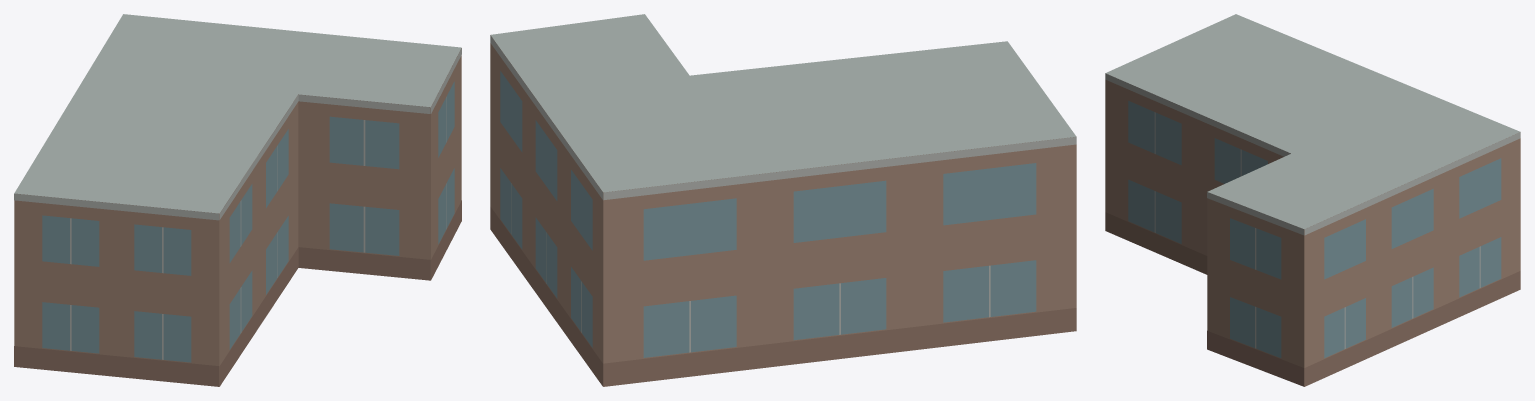
The model's file is survey-upis-32609498.glb.
3 views of the same model, side by side, from view 1: azimuth 30°, elevation 25°; view 2: azimuth 150°, elevation 25°; view 3: azimuth 270°, elevation 25° (orthographic). The views are drawn at different scales.
Parts seen in each view (by area): view 1: survey-upis-32609498.tmp; view 2: survey-upis-32609498.tmp; view 3: survey-upis-32609498.tmp.
Boxes of the visible parts, left/top/right/bottom form: survey-upis-32609498.tmp: left=14, top=14, right=461, bottom=386; survey-upis-32609498.tmp: left=490, top=14, right=1076, bottom=386; survey-upis-32609498.tmp: left=1105, top=14, right=1520, bottom=386.
Bounding box in the file's own units: 17.88 × 6.1 × 14.58.
